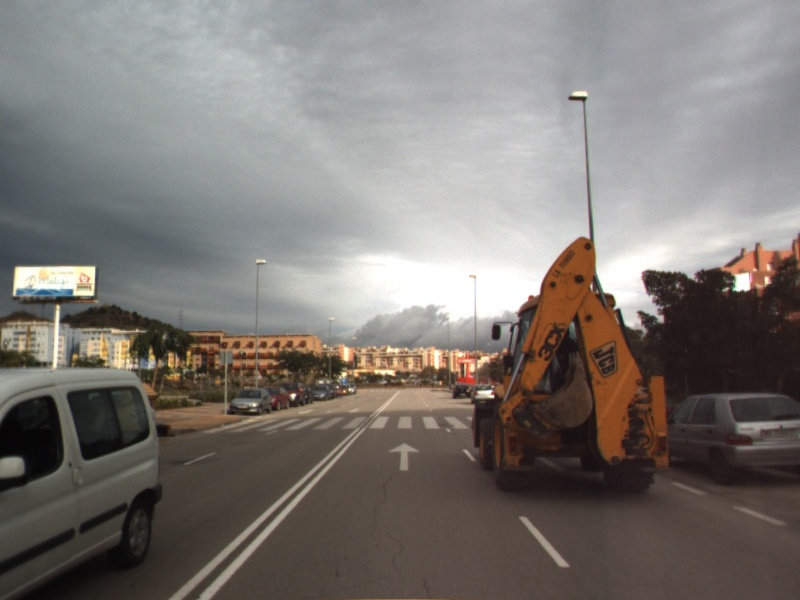STRAIGHT: (387, 441, 422, 472)
